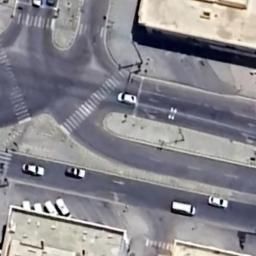sedan: (168, 196, 202, 218), (17, 162, 46, 180), (63, 162, 88, 182), (206, 192, 232, 211), (113, 88, 138, 105)
unknown: (44, 196, 56, 216), (34, 204, 45, 214)
van: (55, 196, 74, 222)
